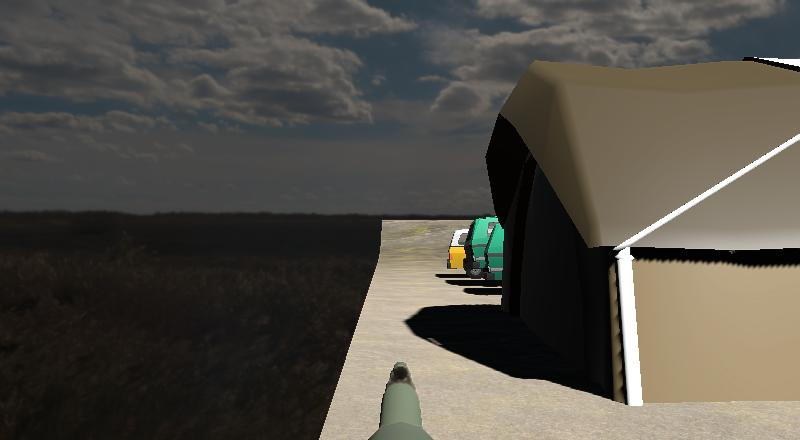car: (463, 214, 502, 280), (446, 225, 470, 276)
